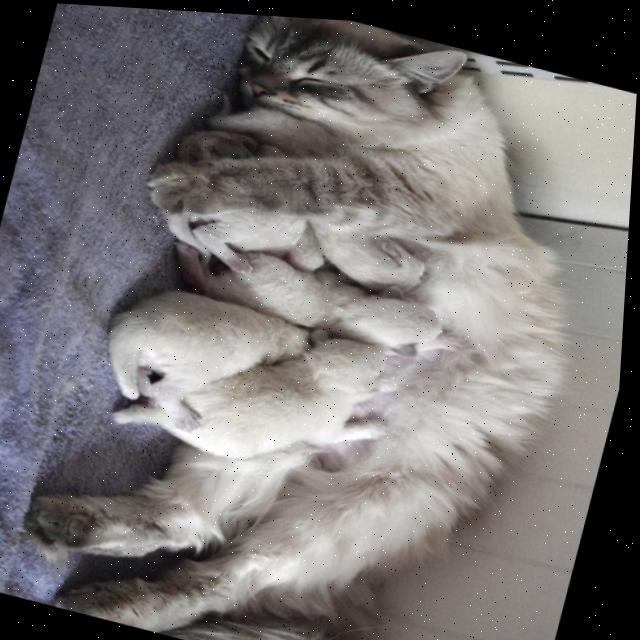Neva Masquerade: (3, 2, 640, 640)
